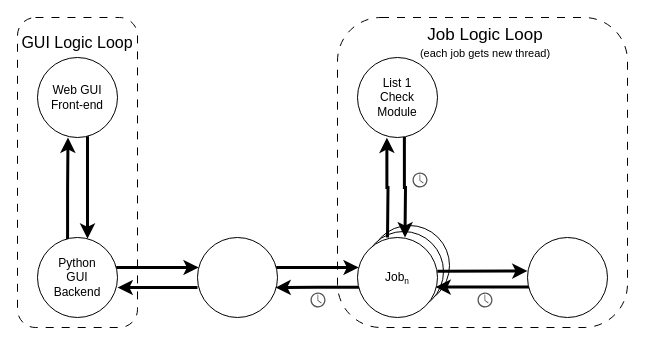
The diagram is 645 pixels wide and 345 high, and some of its shapes have lost their labels. The centre of each missing label's shape, as x and y in pixels:
"Job Dispatcher" belongs at (x=237, y=277).
"List 2 Check Module" belongs at (x=567, y=277).
